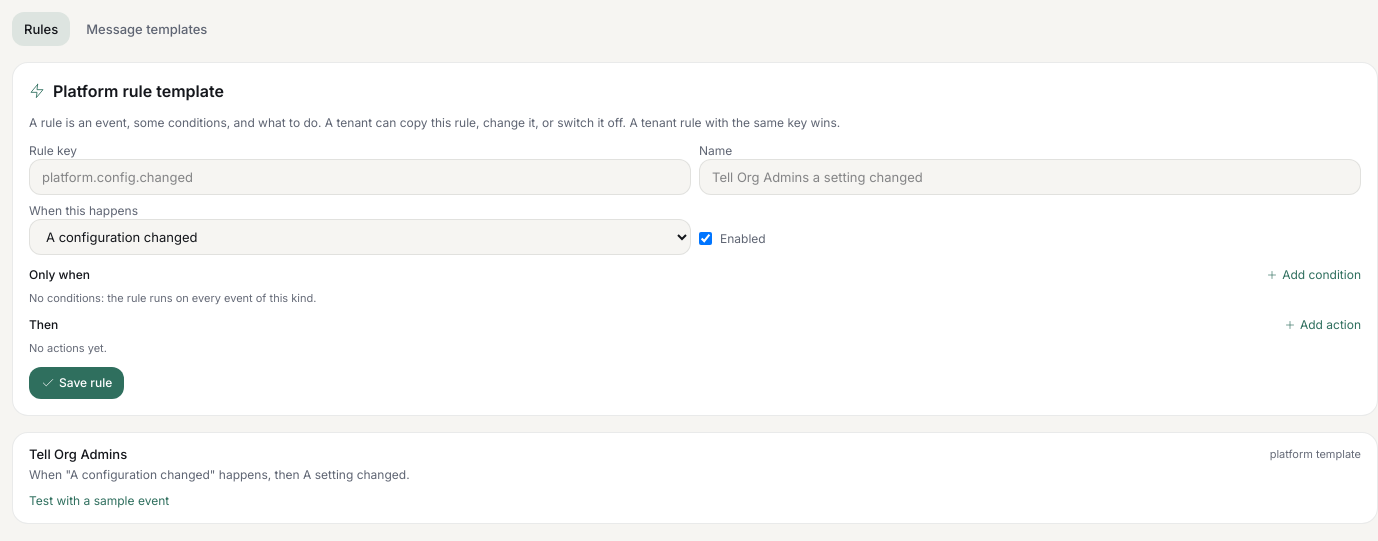
SA-07 and SA-08 automation (F7, F1) › the template editor moves blocks with up and down buttons
Click the button with test id "superadmin-automation-tab-templates".
click(147, 29)  # box [74,12,219,46]
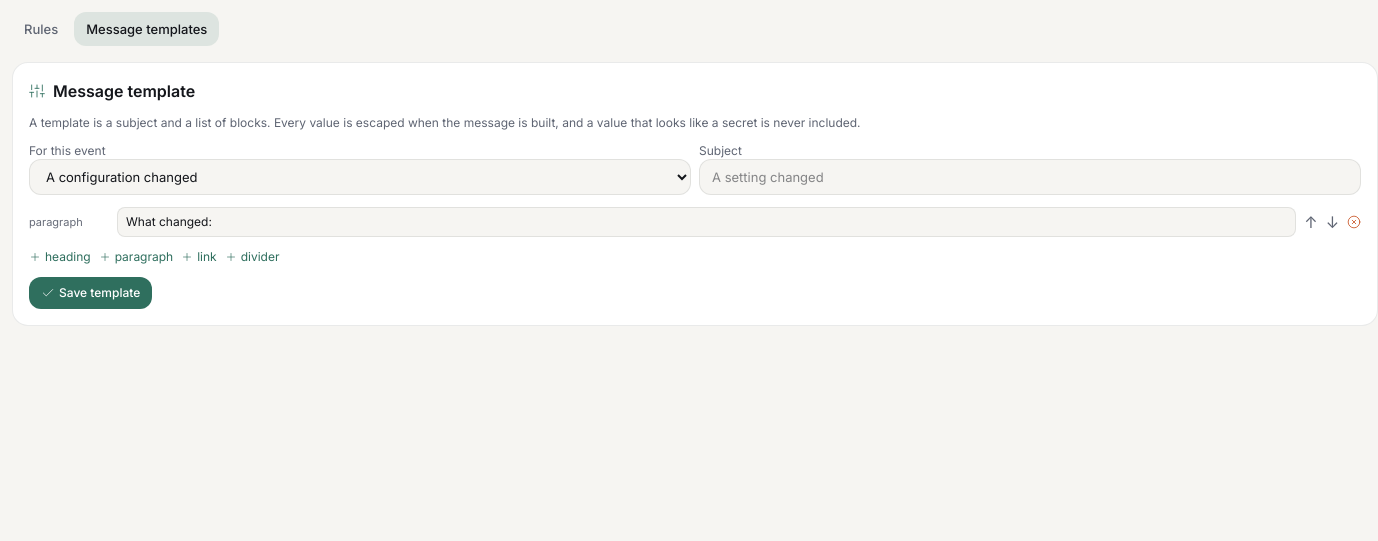
Now the element with test id "template-block-0" is shown, box [29,207,1361,237]
Click the button with test id "template-add-heading".
click(60, 257)  # box [29,249,91,265]
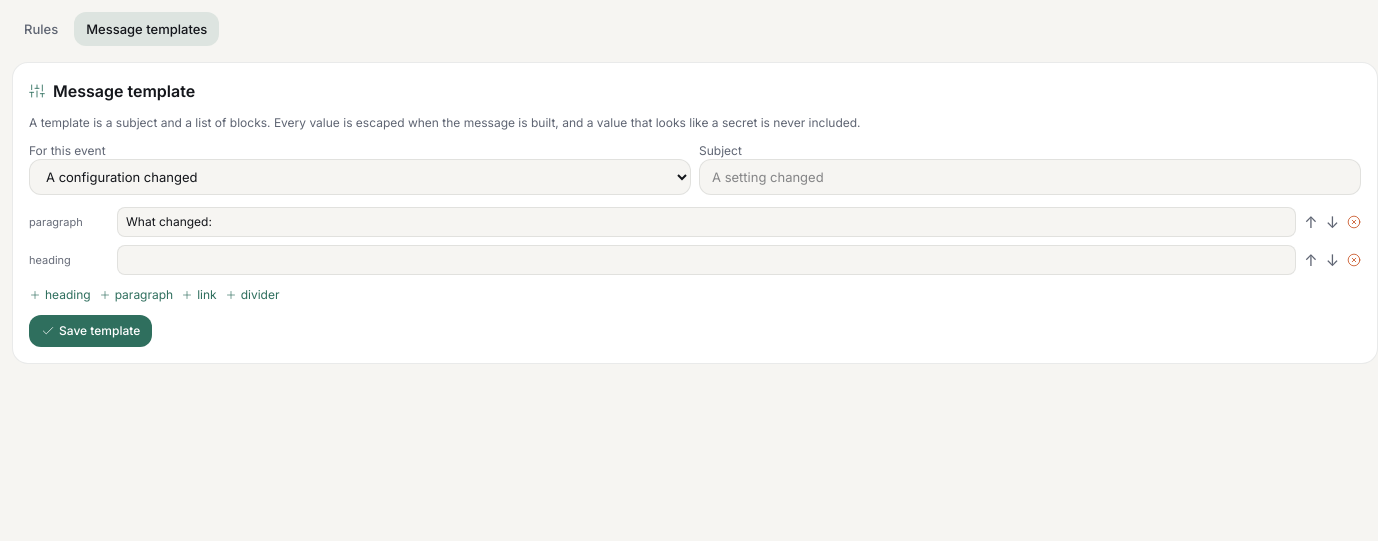
Now the element with test id "template-block-1" is shown, box [29,245,1361,275]
Click the button with test id "template-block-up-1".
click(1311, 260)  # box [1304,248,1318,272]
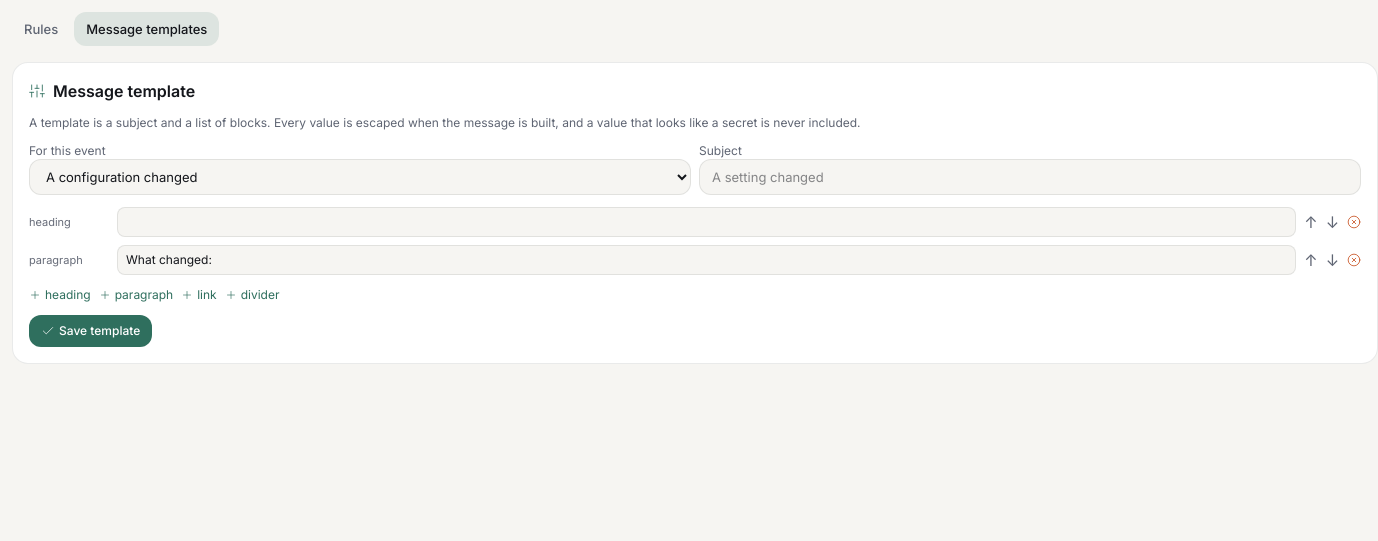
Now the text "heading" is shown, box [29,215,71,229]
